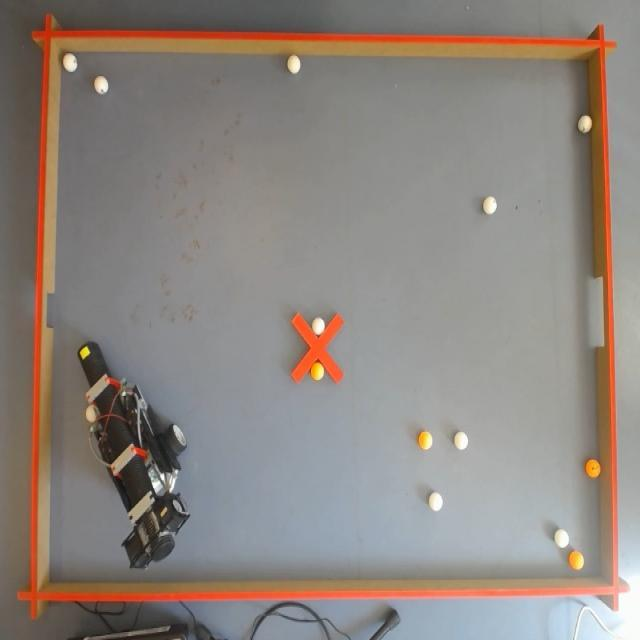orange: (78, 340, 102, 374), (569, 546, 586, 572), (584, 462, 601, 481), (416, 431, 430, 452), (310, 362, 324, 379)
robot: (80, 342, 188, 568)
white: (62, 52, 78, 74), (578, 114, 592, 135), (430, 492, 443, 514), (554, 530, 568, 550), (94, 76, 108, 95), (482, 197, 496, 216), (454, 430, 467, 450), (288, 54, 301, 73), (312, 315, 322, 333)
